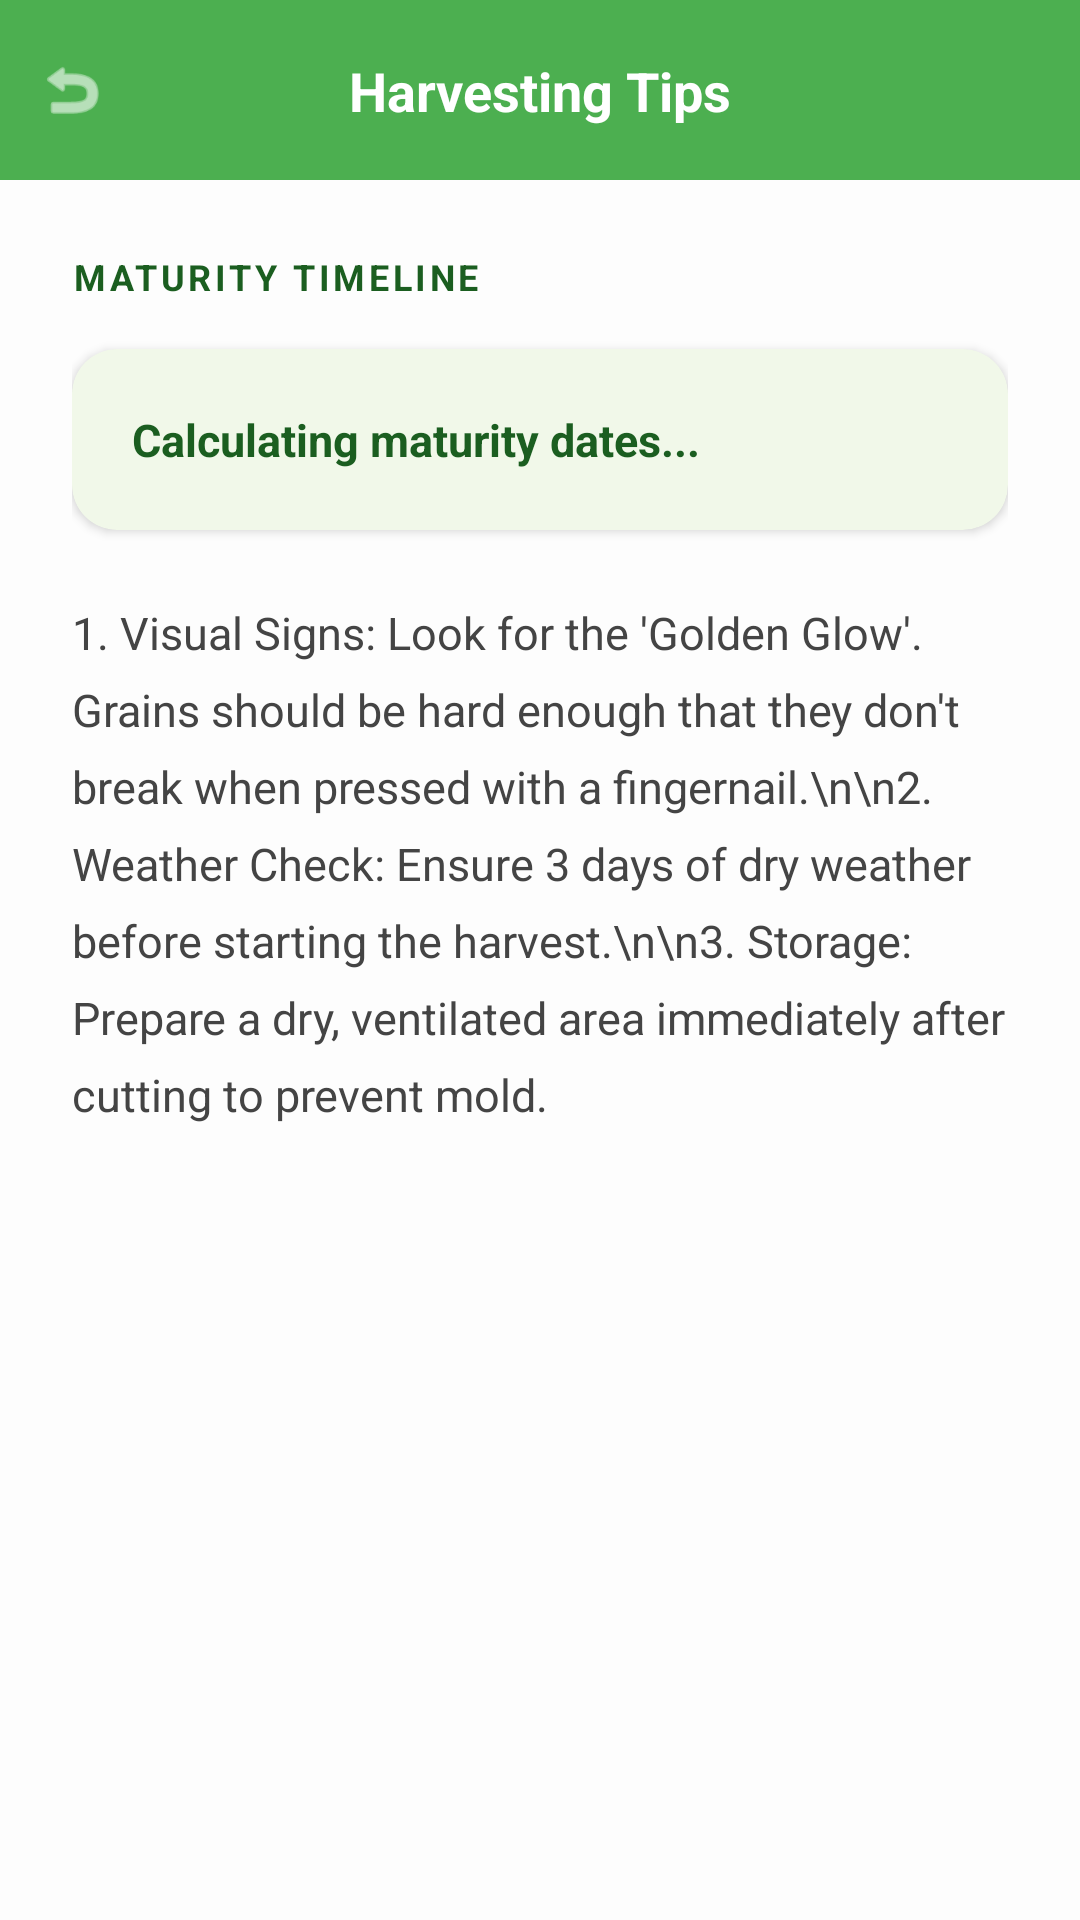

Point at icon controls on the screen. Image size 1080px x 1920px, points as point (x, y).
revert: point (73, 90)
